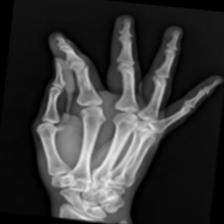comminuted-fracture: (22, 2, 224, 224)
